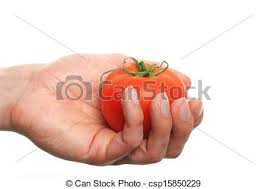tomato: (102, 63, 186, 136)
